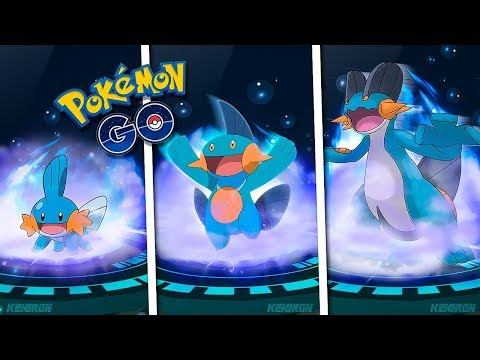mudkip: (14, 155, 107, 265)
